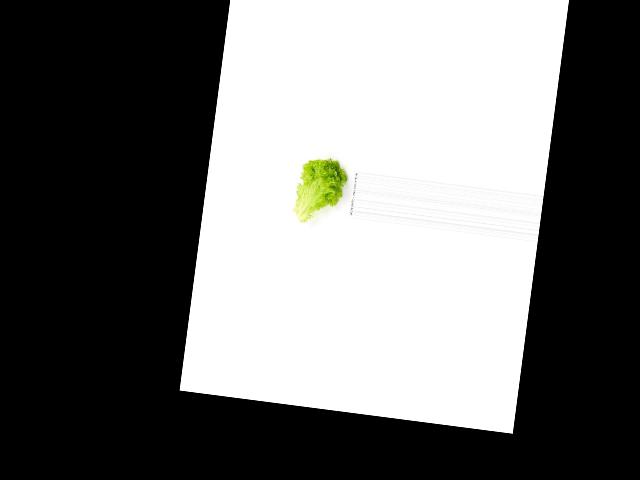lettuce: (290, 151, 350, 226)
